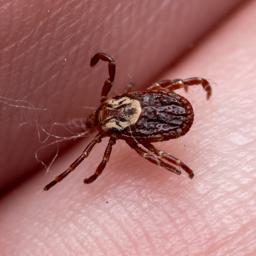Dermacentor variabilis: (42, 50, 214, 192)
